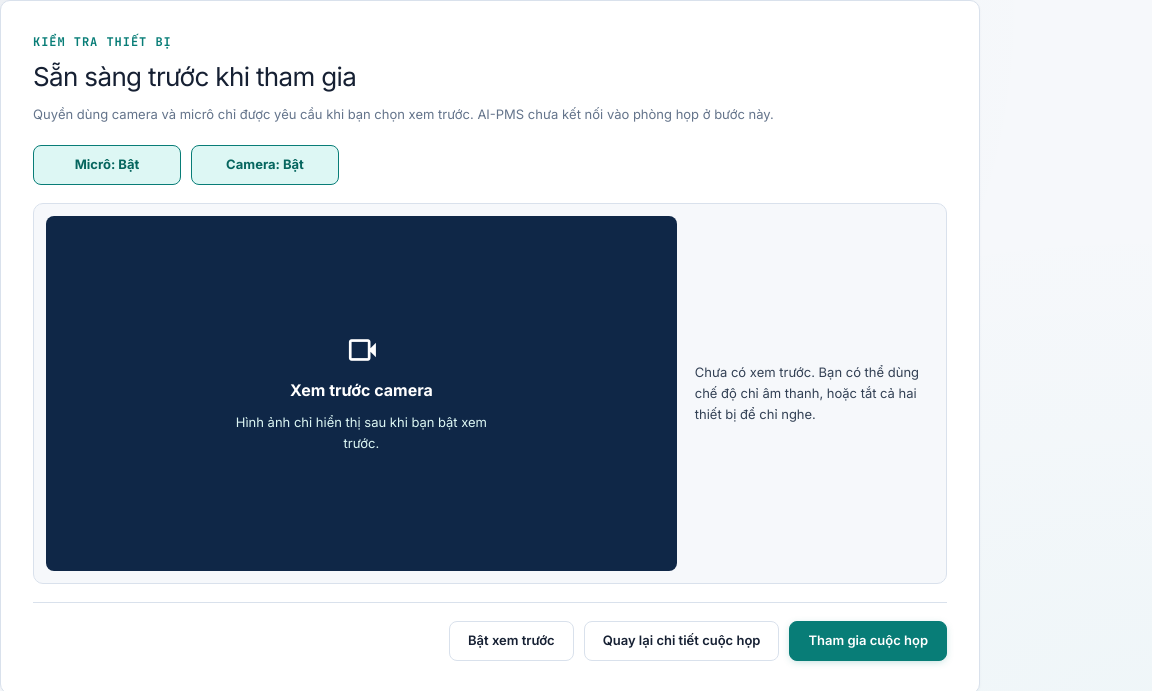
MeetingVideoPreflight › shows a recoverable unsupported-media error without a request
Click the button "Bật xem trước": (511, 641) x1=449 y1=621 x2=574 y2=661
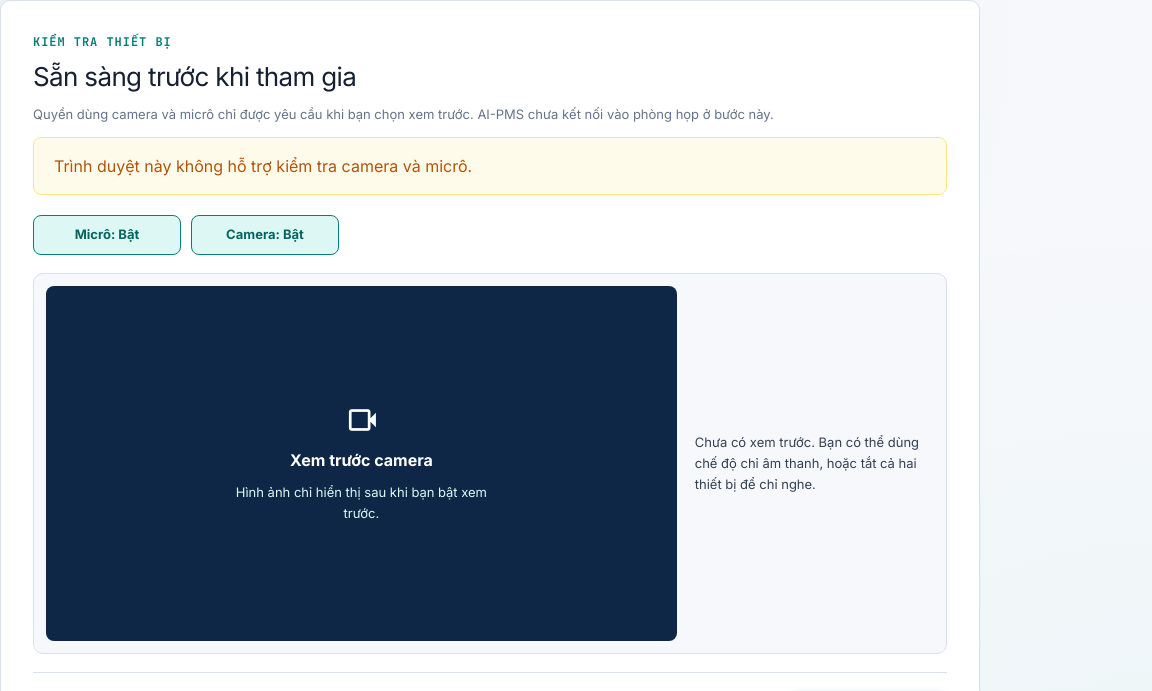
Check: the message shows "không hỗ trợ", box x1=54 y1=156 x2=472 y2=176
